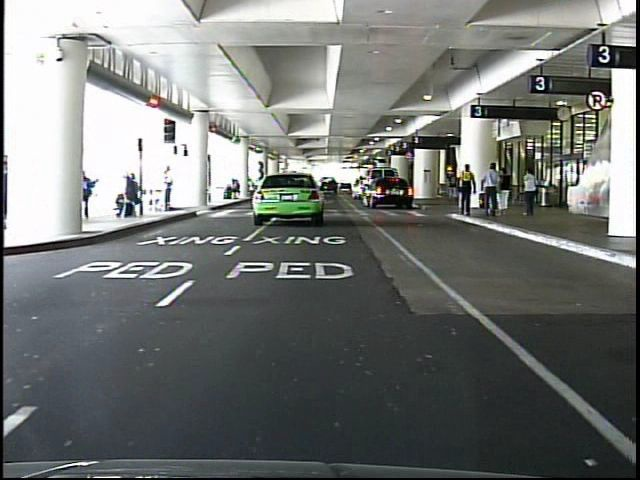person: (455, 162, 481, 225), (518, 164, 545, 223), (480, 162, 501, 219), (160, 166, 181, 217), (497, 167, 513, 222), (447, 168, 459, 205)
